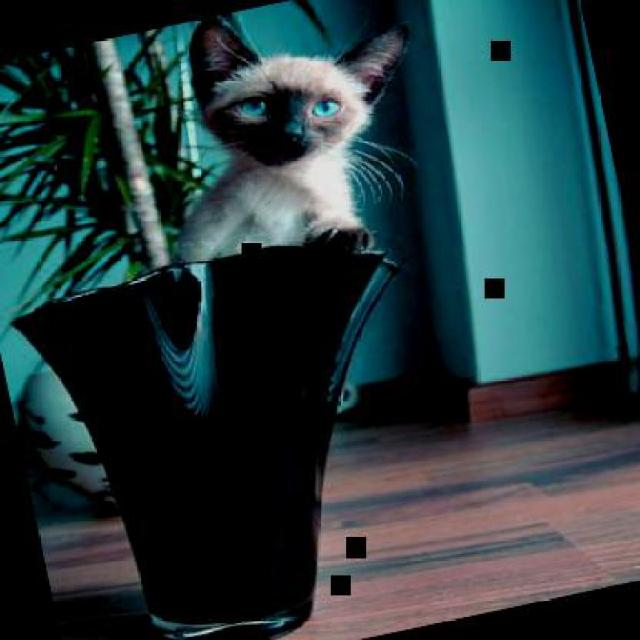cat: (123, 0, 451, 289)
